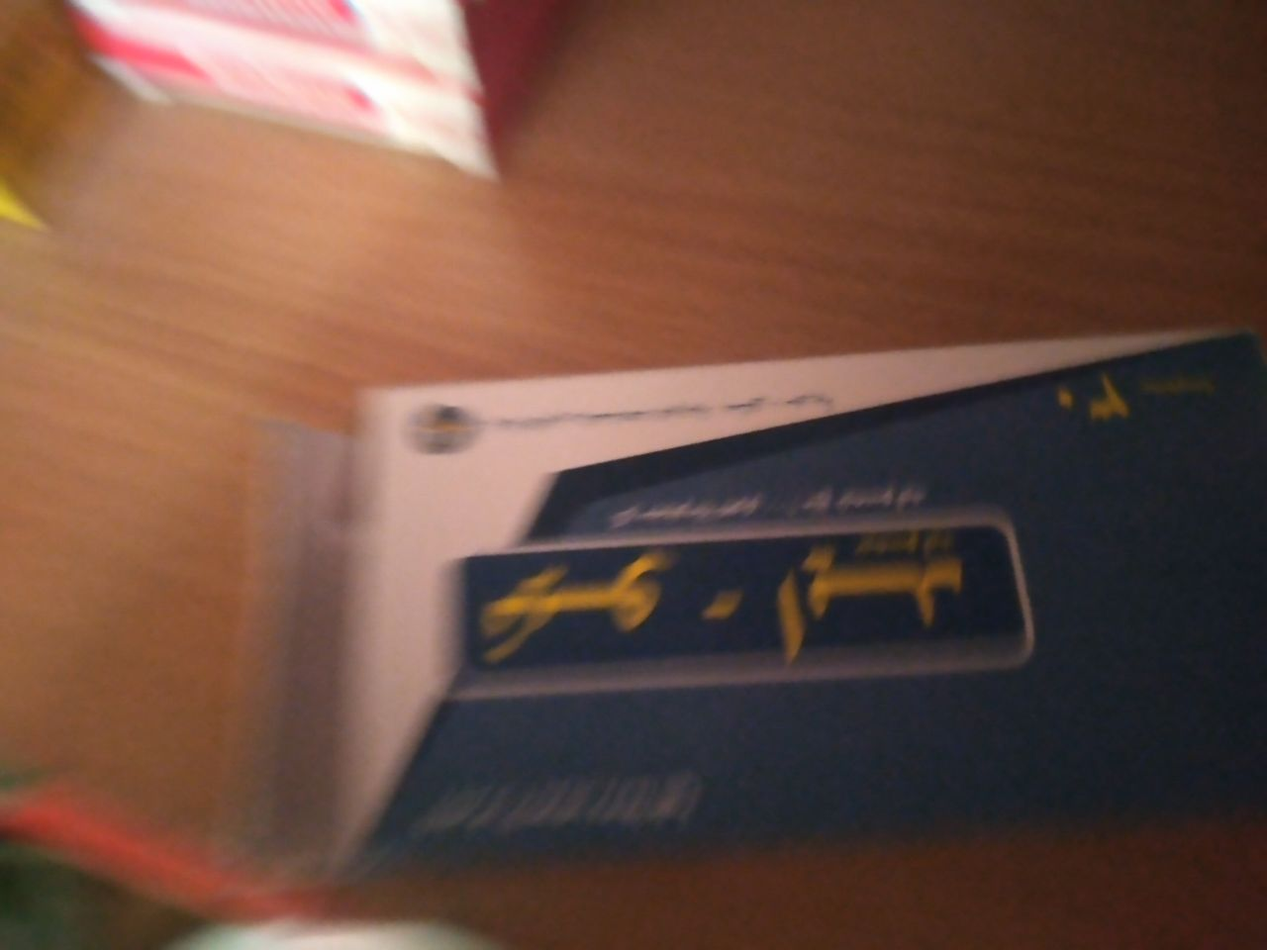Medicine: (309, 299, 1267, 849)
